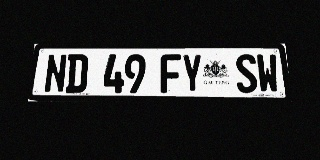4: (103, 54, 125, 93)
9: (124, 54, 146, 93)
D: (65, 54, 88, 93)
F: (160, 54, 181, 93)
N: (44, 54, 67, 93)
S: (235, 54, 258, 93)
W: (256, 54, 280, 93)
Y: (181, 54, 203, 93)
